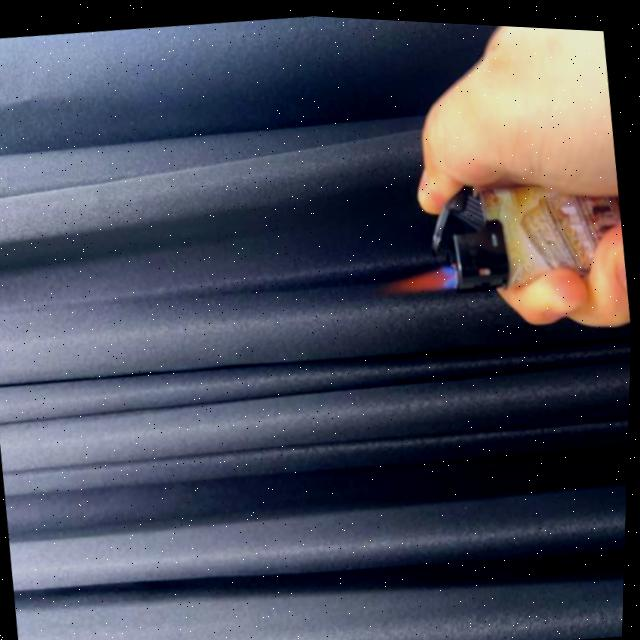Fire: (383, 256, 462, 297)
